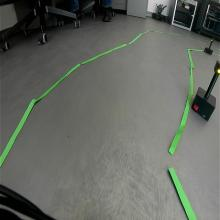green: (213, 60, 220, 75)
